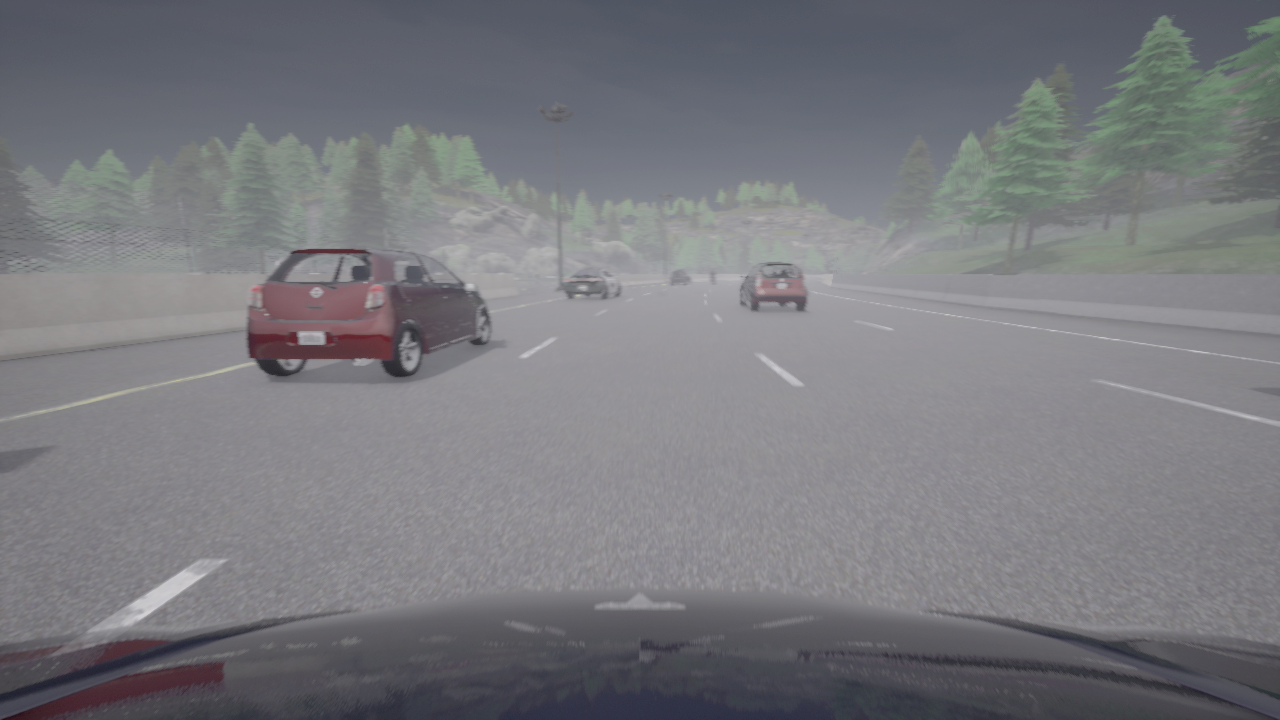cyclist: (0, 588, 1279, 719), (245, 248, 491, 377), (739, 262, 807, 311), (563, 267, 621, 299), (670, 271, 691, 284), (711, 277, 713, 283)
